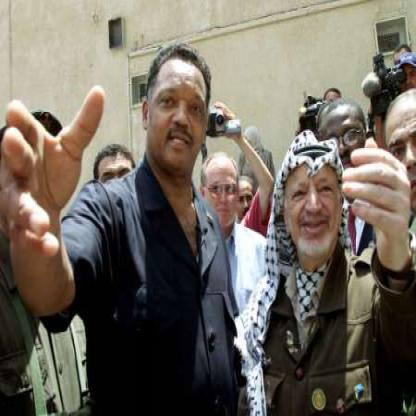face: (149, 47, 212, 175), (285, 138, 346, 262), (321, 96, 369, 195), (205, 155, 240, 231), (236, 180, 255, 222)
